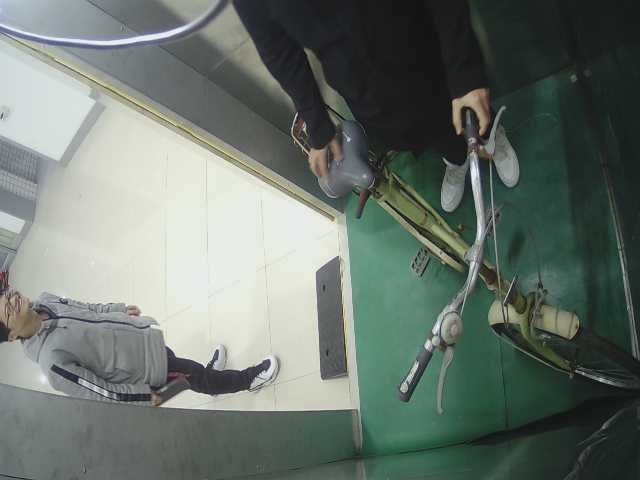bicycle: (285, 98, 638, 403)
person: (213, 1, 521, 217), (1, 284, 280, 409)
